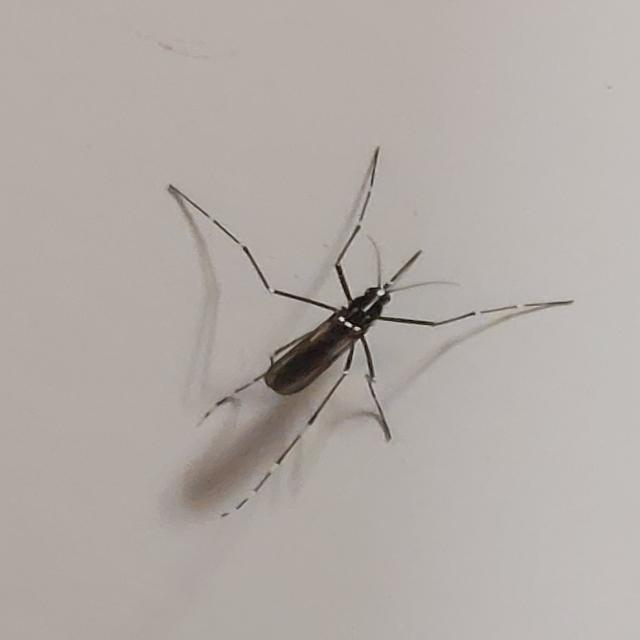albopictus: (148, 135, 567, 514)
